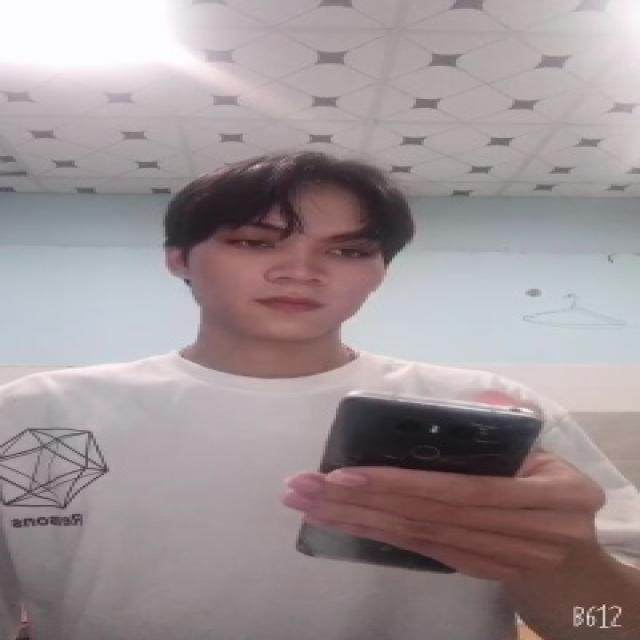Phone: (291, 386, 547, 582)
